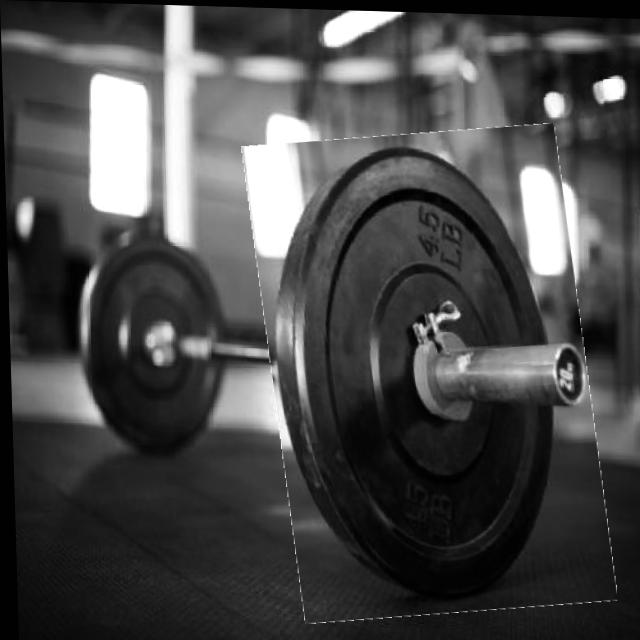barbell: (253, 122, 603, 622)
